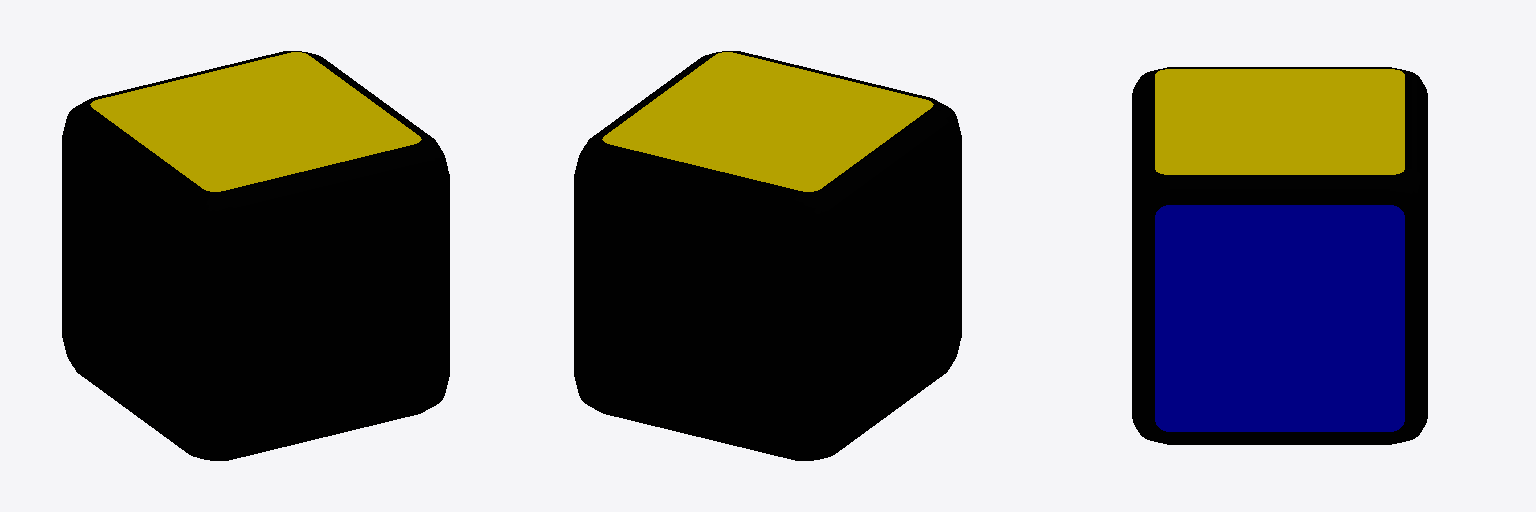
Rendered from edge_by.obj.
The picture shows the model from 3 angles: view 1: azimuth 30°, elevation 25°; view 2: azimuth 150°, elevation 25°; view 3: azimuth 270°, elevation 25°; orthographic projection.
Parts seen in each view (by area): view 1: Cube; view 2: Cube; view 3: Cube.
Part boxes in pixels (left/top/right/bottom): Cube: left=62, top=51, right=449, bottom=460; Cube: left=574, top=51, right=961, bottom=460; Cube: left=1132, top=67, right=1427, bottom=444.
Size of the model in its own units: 2 by 2 by 2.